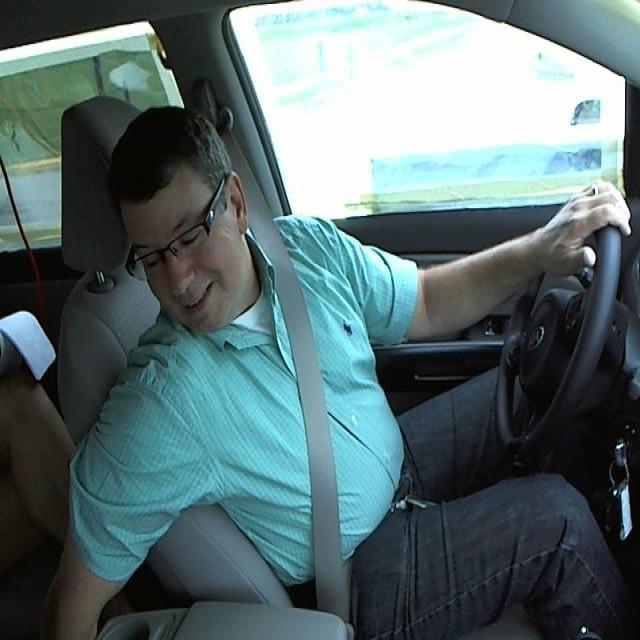seatbelt: (259, 253, 368, 620)
